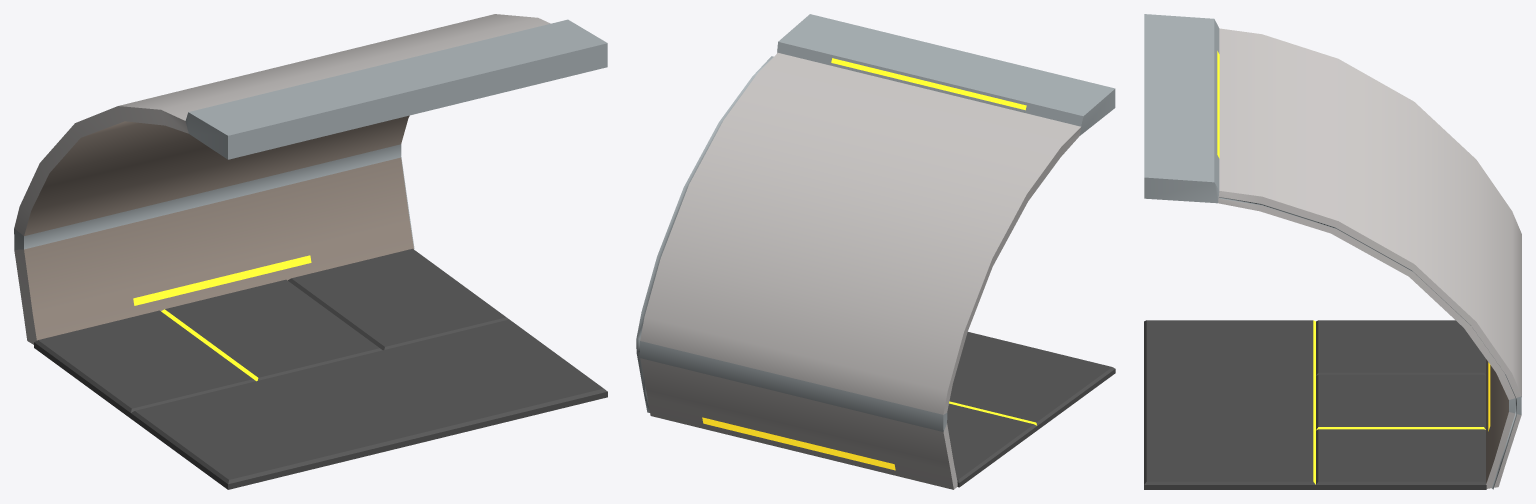
Rendered from wall_arch.glb.
3 views of the same model, side by side, from view 1: azimuth 30°, elevation 25°; view 2: azimuth 150°, elevation 25°; view 3: azimuth 270°, elevation 25° (orthographic). The views are drawn at different scales.
Visible parts, largest first — view 1: wall_arch, wall_floor; view 2: wall_arch, wall_floor, quarter_solid_connector.001; view 3: wall_arch, wall_floor, quarter_solid_connector.001.
Part boxes in pixels (x1,y1,x2,y2): wall_arch: (14, 14, 607, 344); wall_floor: (34, 248, 607, 489); wall_arch: (640, 14, 1115, 489); wall_floor: (947, 332, 1115, 487); quarter_solid_connector.001: (636, 56, 773, 412); wall_arch: (1144, 14, 1521, 488); wall_floor: (1144, 320, 1486, 489); quarter_solid_connector.001: (1219, 197, 1516, 489).
Size of what is drawn, in the model's own units: 3.04 by 2.67 by 2.93.
